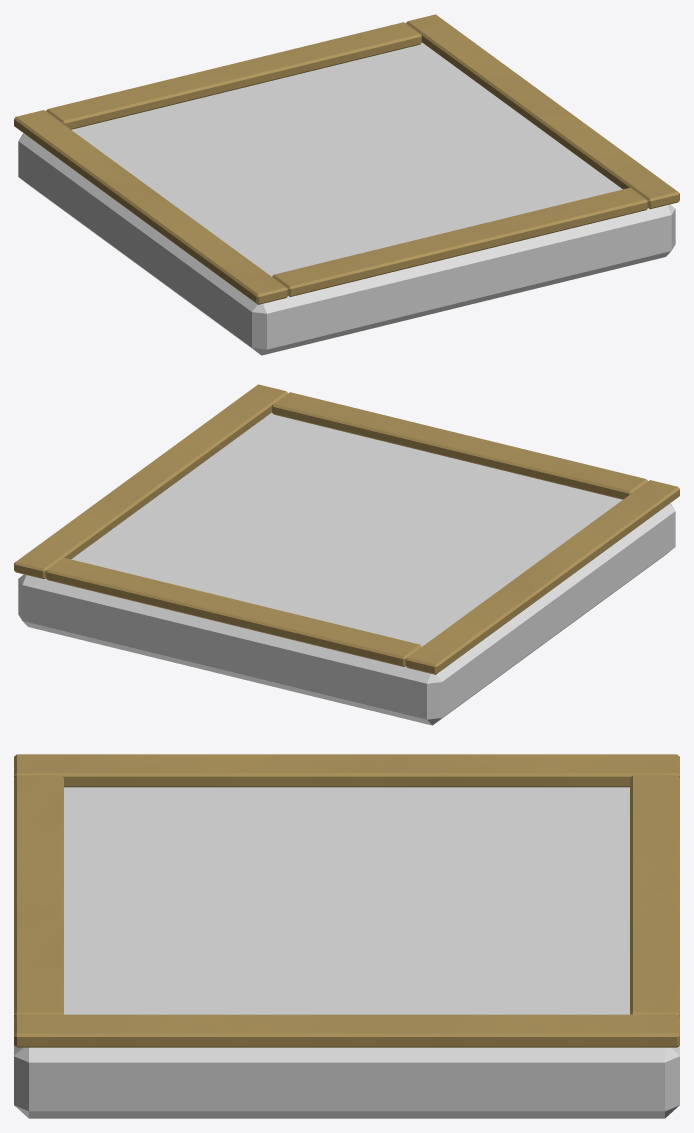
File: WarrensC_WVC032_PackPlateHousing_Mars_SM.fbx
3 views of the same model, one above another, from view 1: azimuth 30°, elevation 25°; view 2: azimuth 150°, elevation 25°; view 3: azimuth 270°, elevation 25° (orthographic). The views are drawn at different scales.
Parts seen in each view (by area): view 1: WarrensC_WVC032_PackPlateHousing_Mars_SM.001; view 2: WarrensC_WVC032_PackPlateHousing_Mars_SM.001; view 3: WarrensC_WVC032_PackPlateHousing_Mars_SM.001.
Boxes of the visible parts, box(x1,y1,x2,y2) form: WarrensC_WVC032_PackPlateHousing_Mars_SM.001: box(14, 14, 679, 355); WarrensC_WVC032_PackPlateHousing_Mars_SM.001: box(14, 384, 679, 725); WarrensC_WVC032_PackPlateHousing_Mars_SM.001: box(14, 754, 679, 1118).
Bounding box in the file's own units: 200 × 200 × 30.
